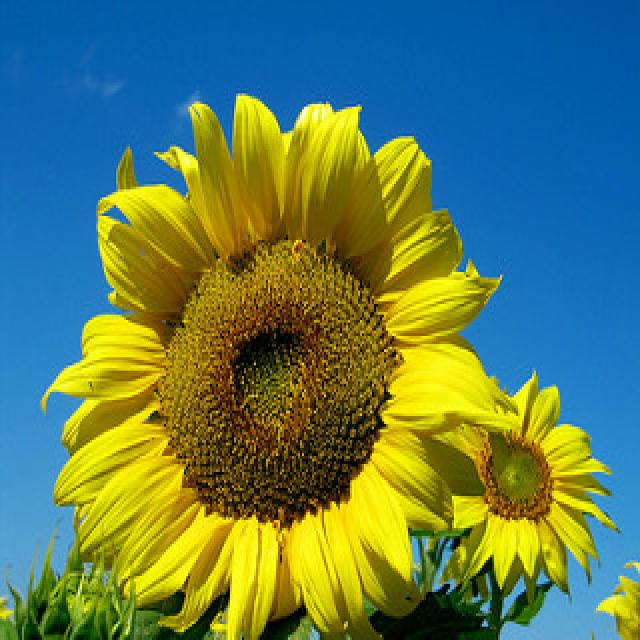sunflower: (39, 88, 507, 640), (441, 363, 619, 616)
